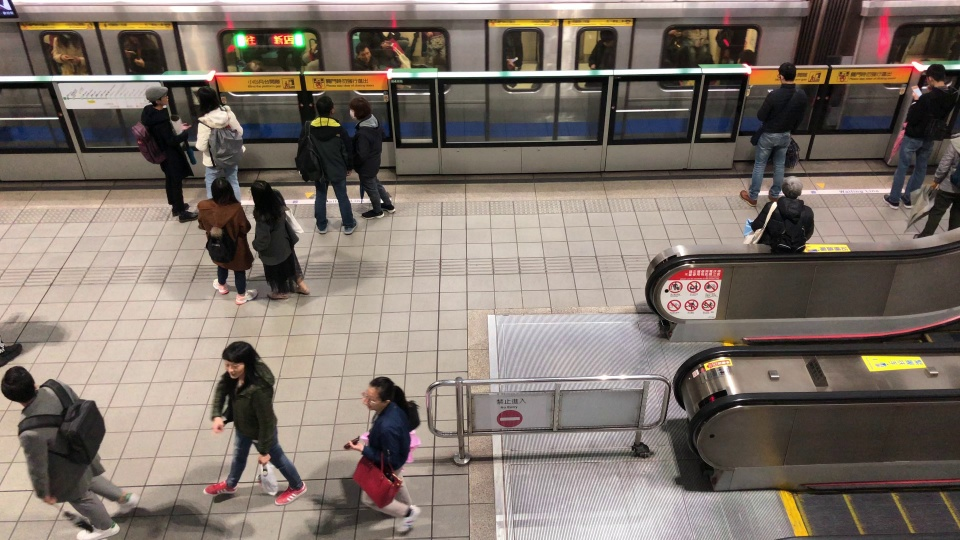person_head: (0, 361, 46, 408), (215, 341, 261, 385), (359, 376, 395, 410), (246, 177, 277, 215), (126, 85, 171, 110), (207, 178, 240, 208), (921, 63, 948, 90), (777, 174, 805, 200), (196, 85, 218, 116), (312, 94, 336, 119), (347, 100, 373, 123), (774, 63, 798, 85)
person_vbox: (0, 366, 142, 540), (188, 340, 309, 517), (327, 376, 428, 537), (97, 85, 194, 227), (733, 62, 809, 212), (883, 64, 960, 209), (282, 94, 360, 235), (186, 177, 261, 307), (241, 176, 315, 300), (899, 127, 960, 243), (342, 100, 400, 220), (729, 174, 817, 253), (194, 84, 246, 204)
